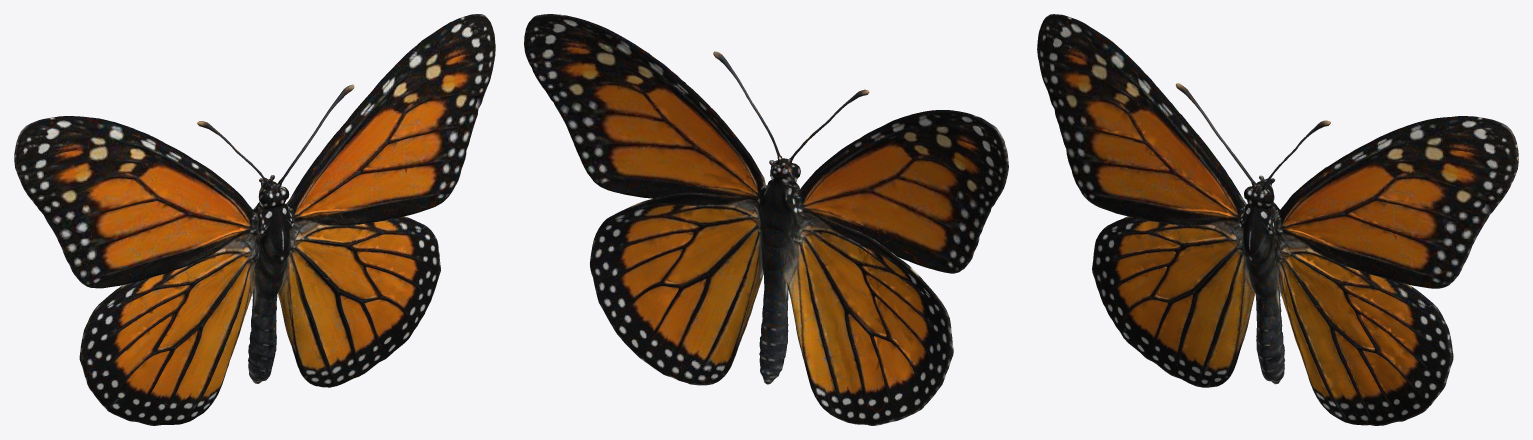
The picture shows the model from 3 angles, left to right: view 1: azimuth 30°, elevation 25°; view 2: azimuth 150°, elevation 25°; view 3: azimuth 330°, elevation 25°; orthographic projection.
Bounding box in the file's own units: 1.9 × 1.27 × 0.2048.
1 material, 1 textured.
